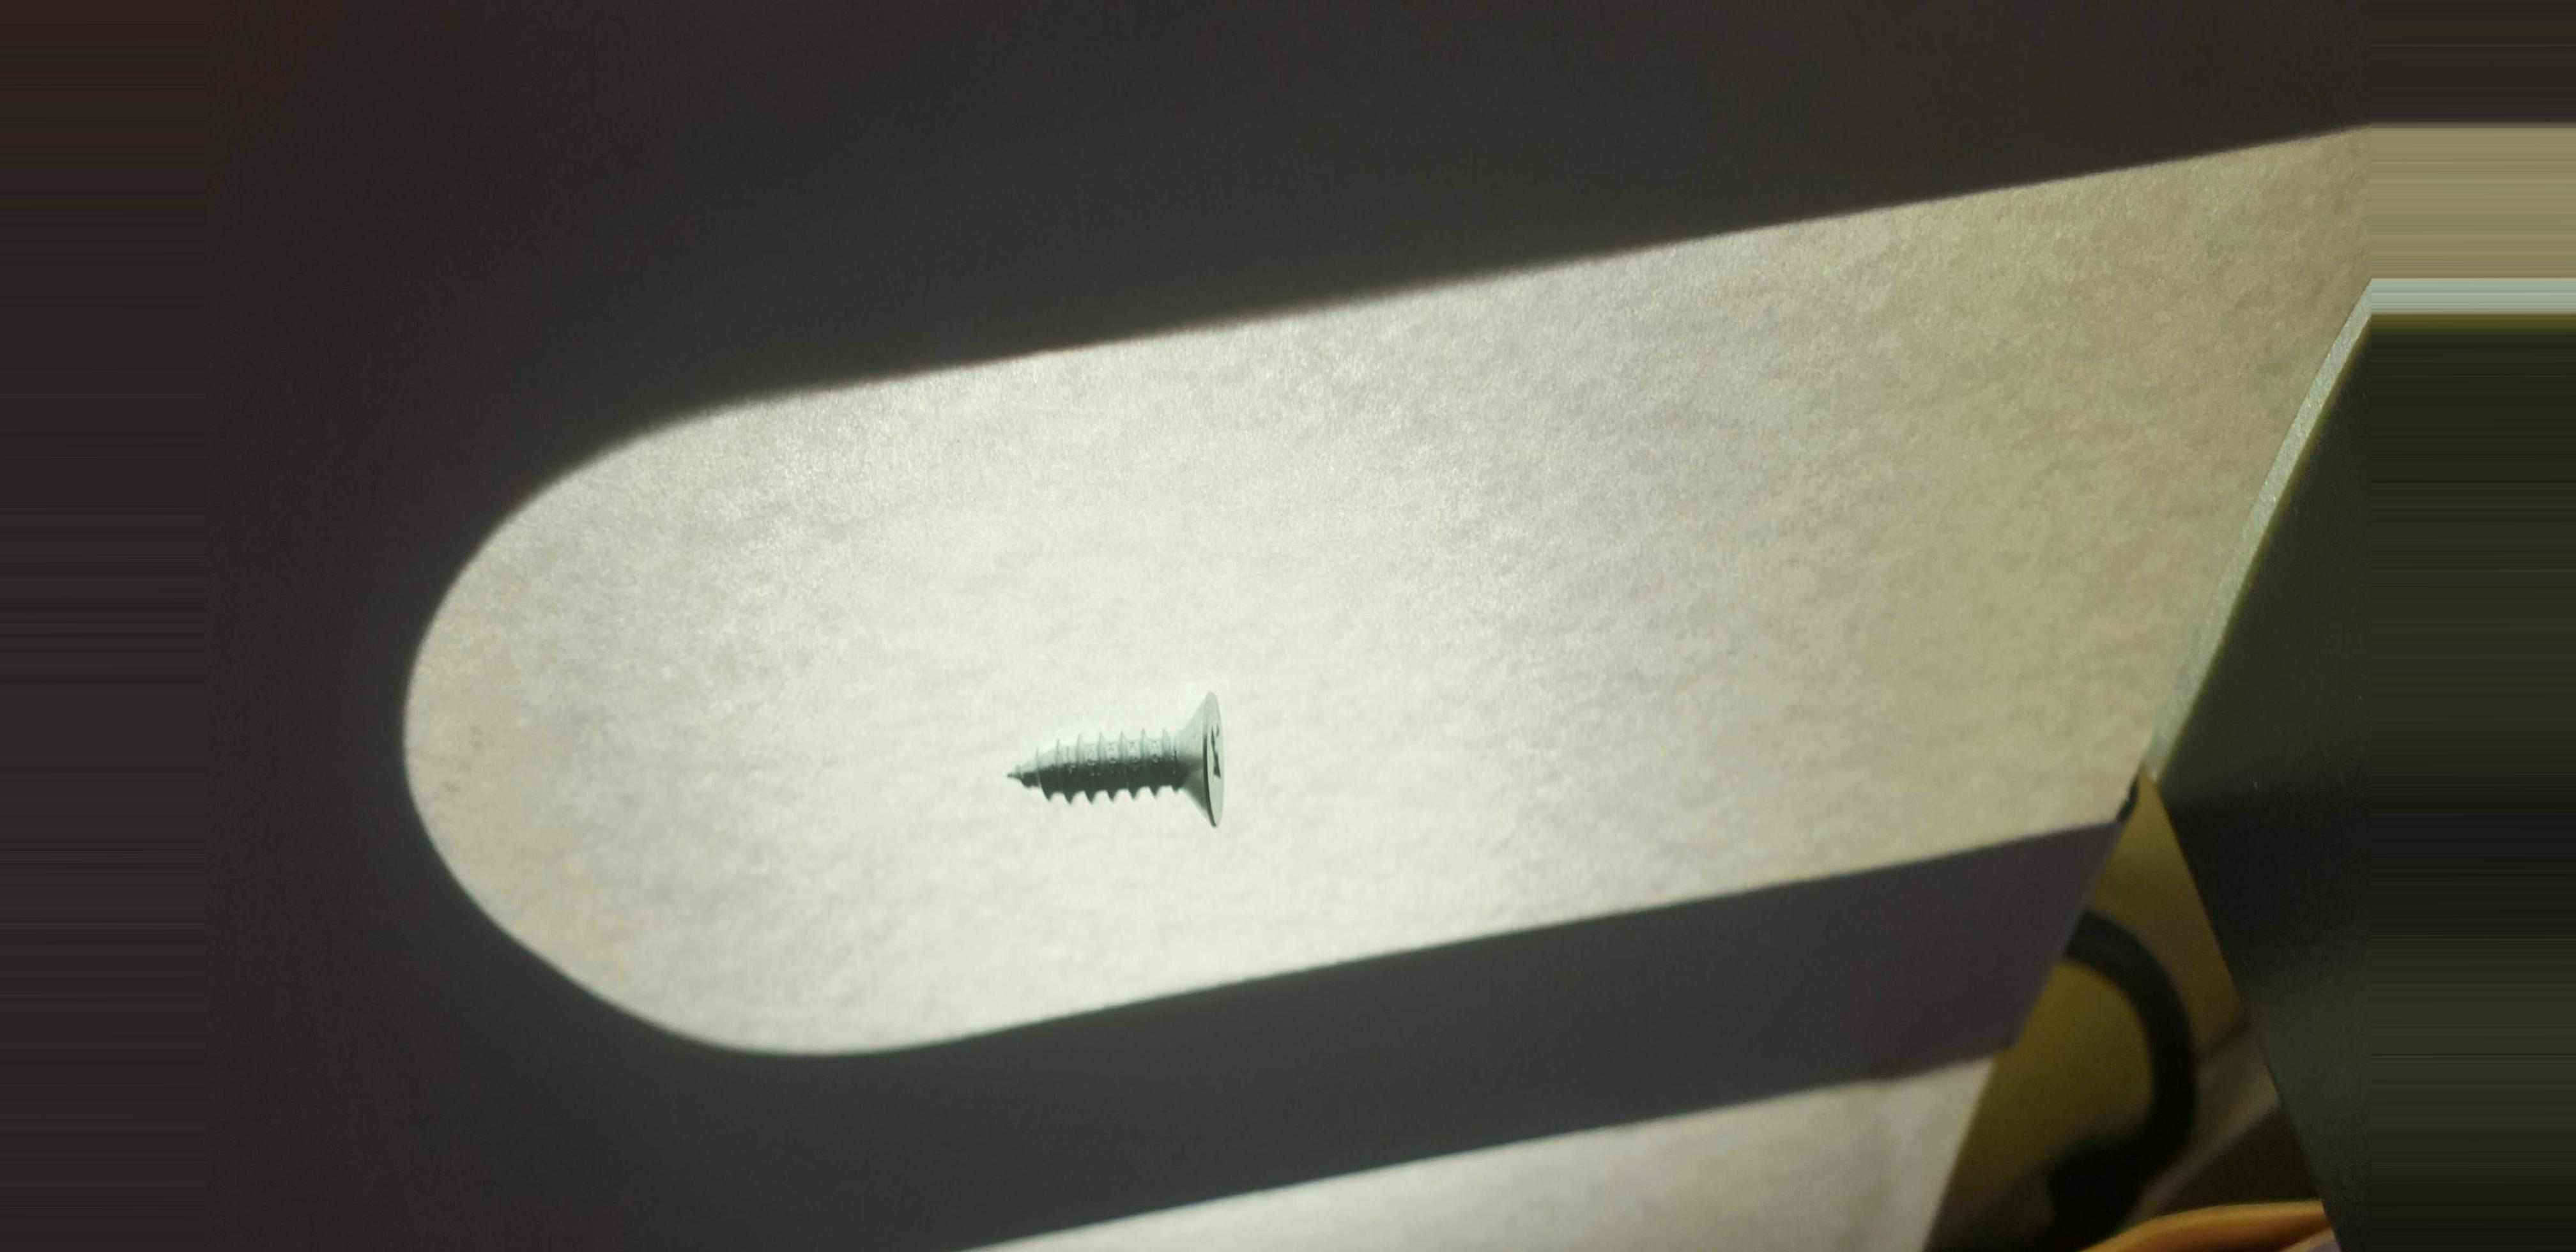S003: (974, 680, 1309, 840)
